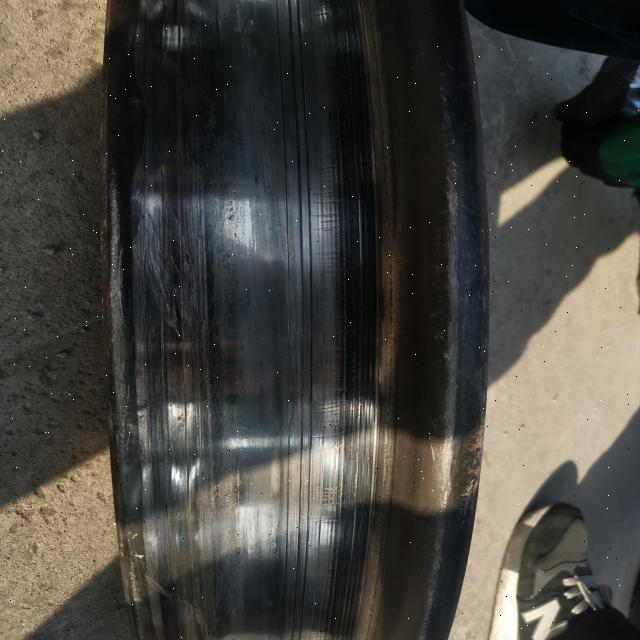hot crack: (312, 248, 364, 392), (320, 397, 363, 437), (310, 212, 367, 234)
